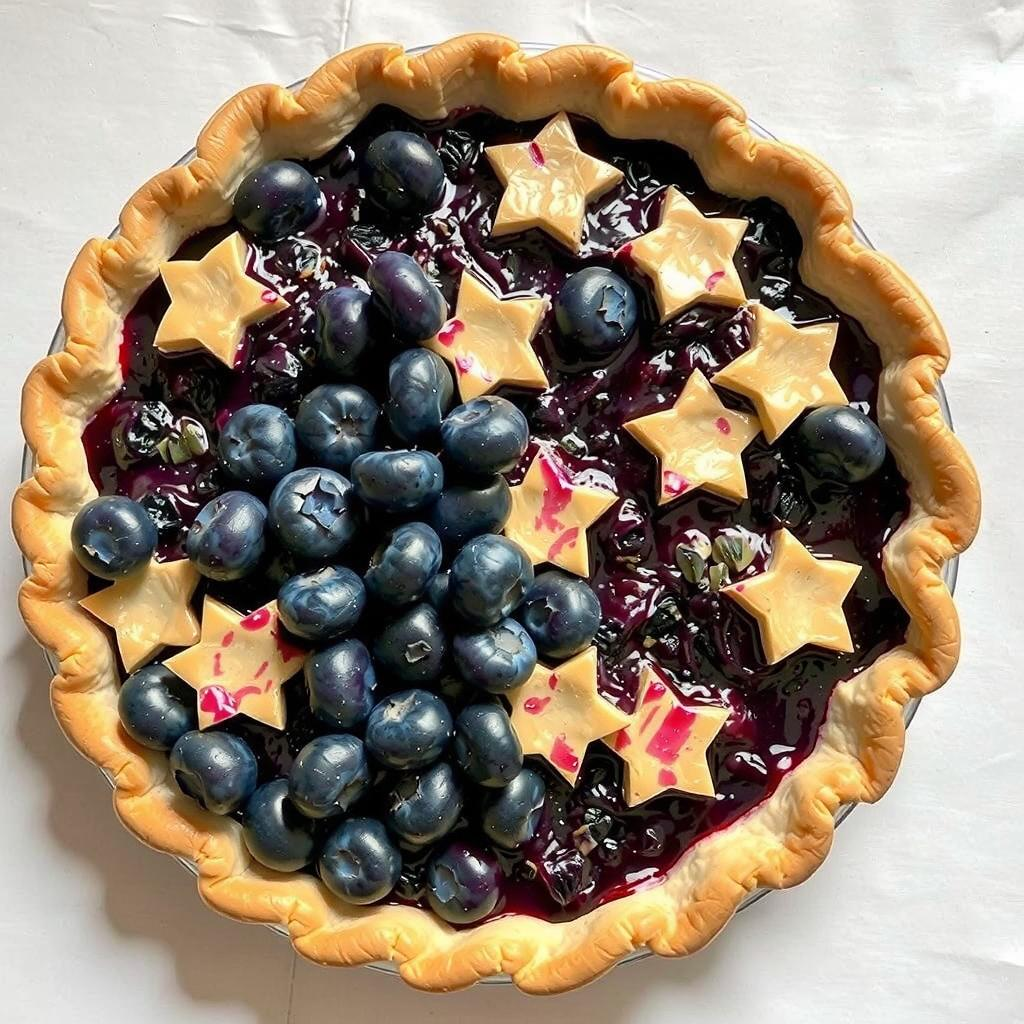pie: (11, 30, 987, 999)
